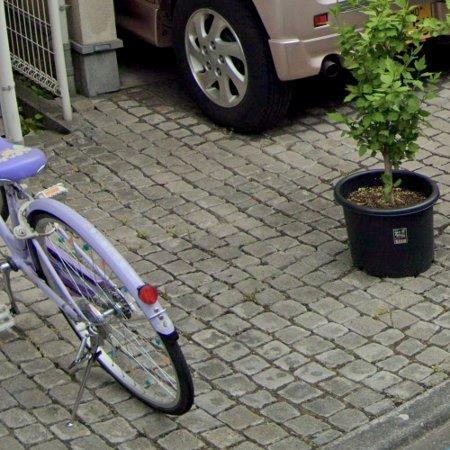bicycles: (0, 138, 194, 414)
